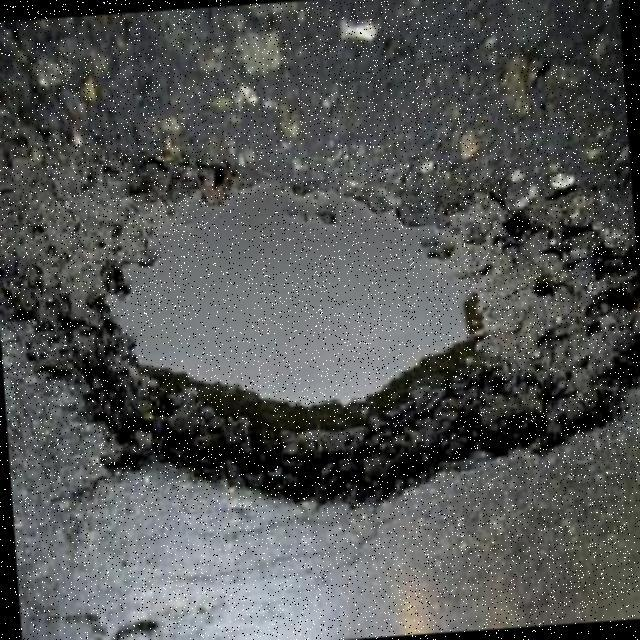Pothole: (0, 101, 640, 501)
